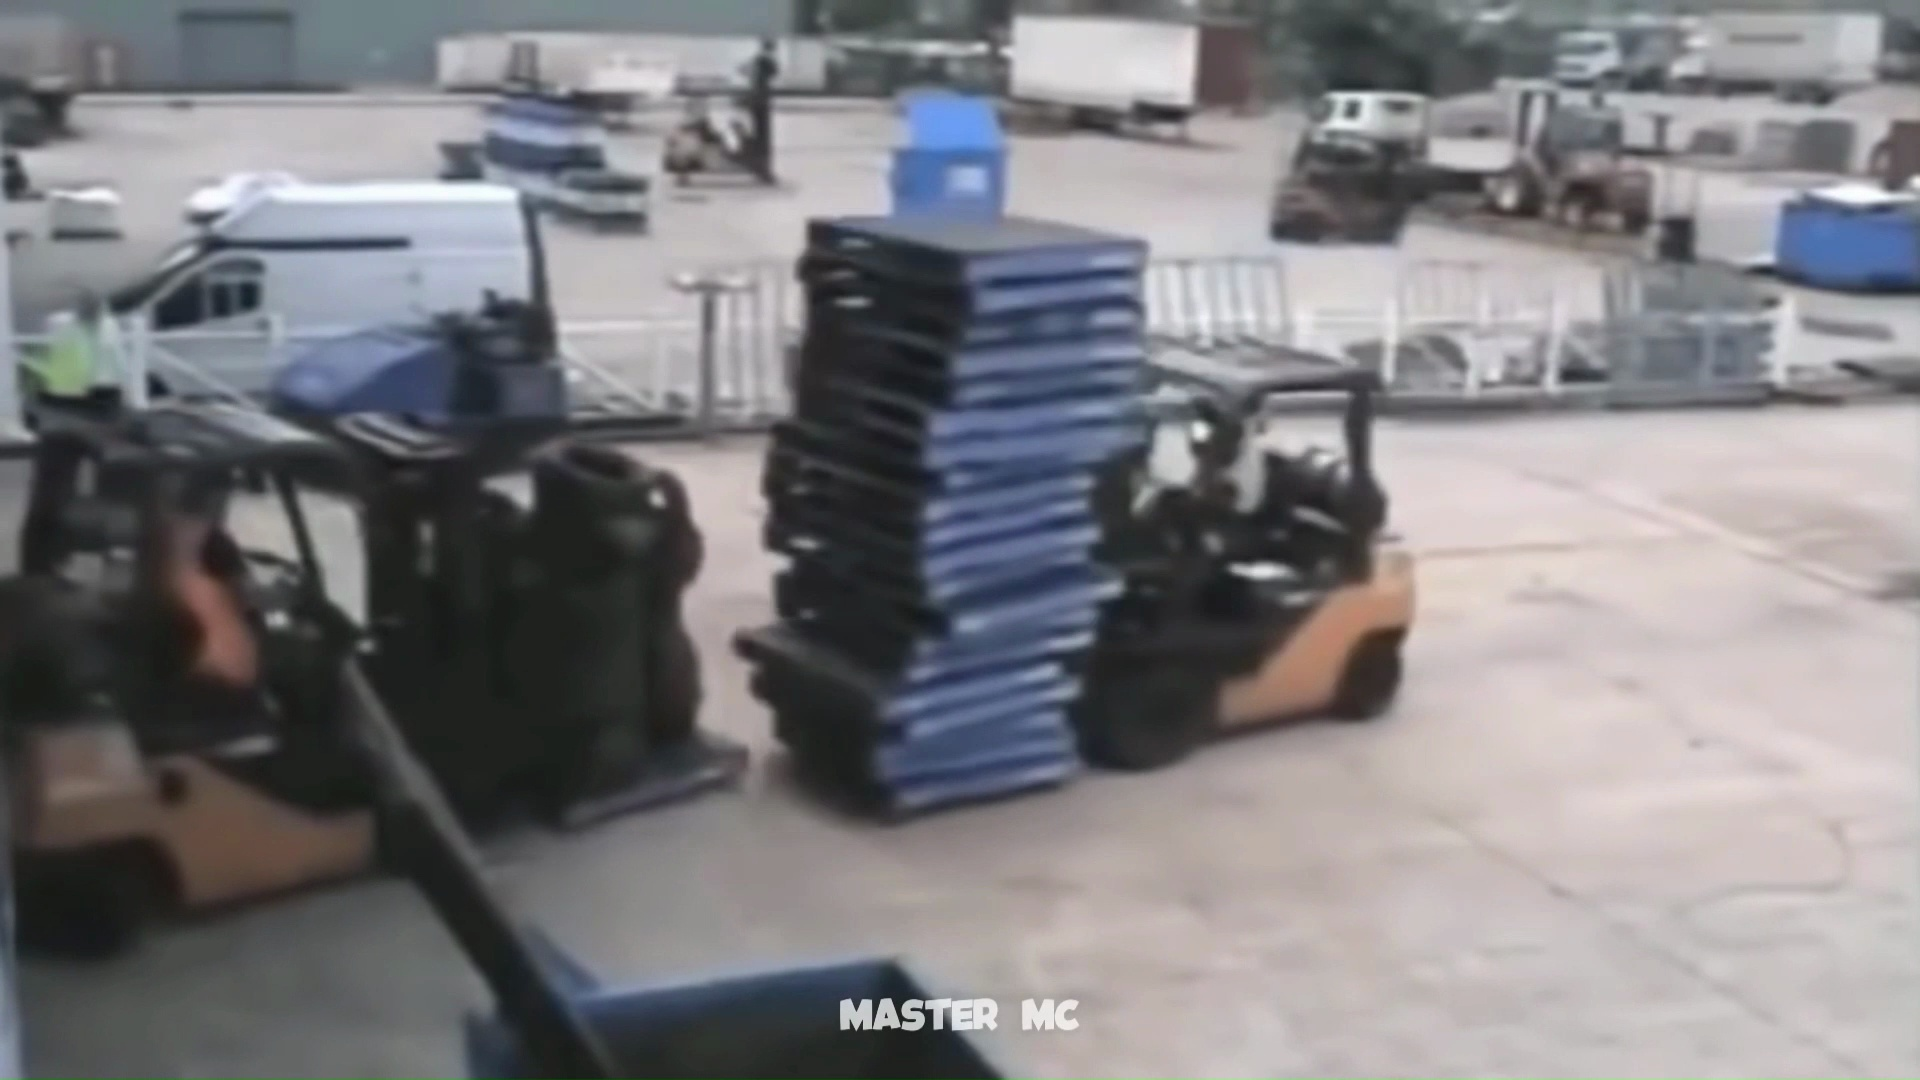forklift: (733, 208, 1423, 822), (1, 388, 758, 922)
